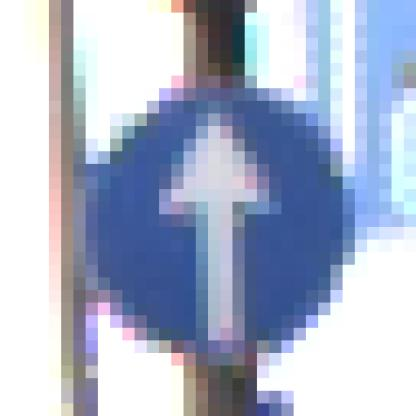AheadOnly: (75, 64, 344, 341)
